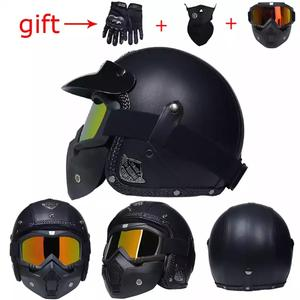with_helmet: (59, 46, 253, 200), (99, 199, 199, 299), (6, 194, 95, 300), (205, 199, 297, 293)
